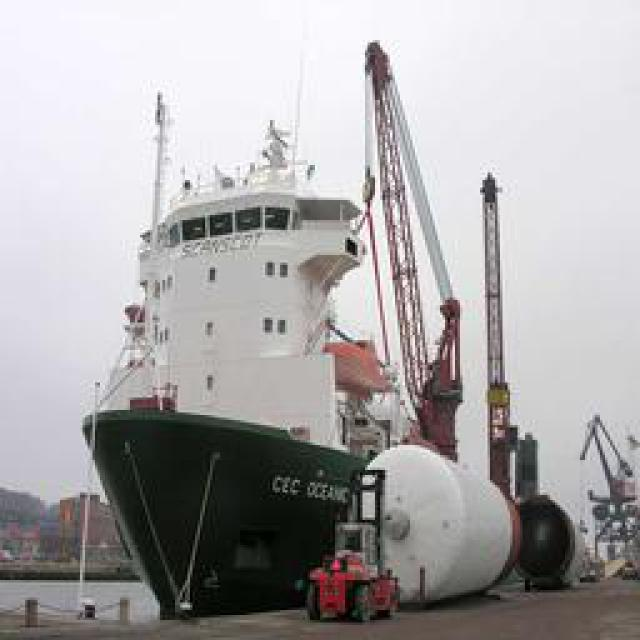Ship: (85, 32, 443, 610)
